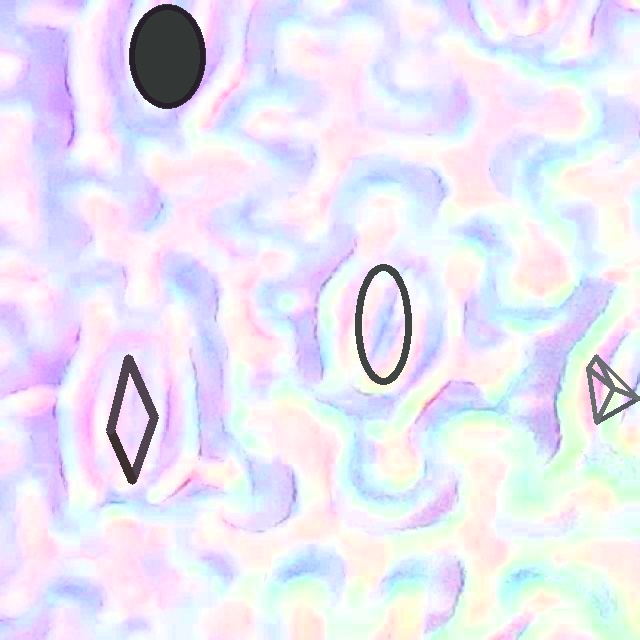close: (106, 354, 157, 484)
open: (129, 4, 204, 108), (355, 265, 411, 384), (587, 354, 639, 423)
